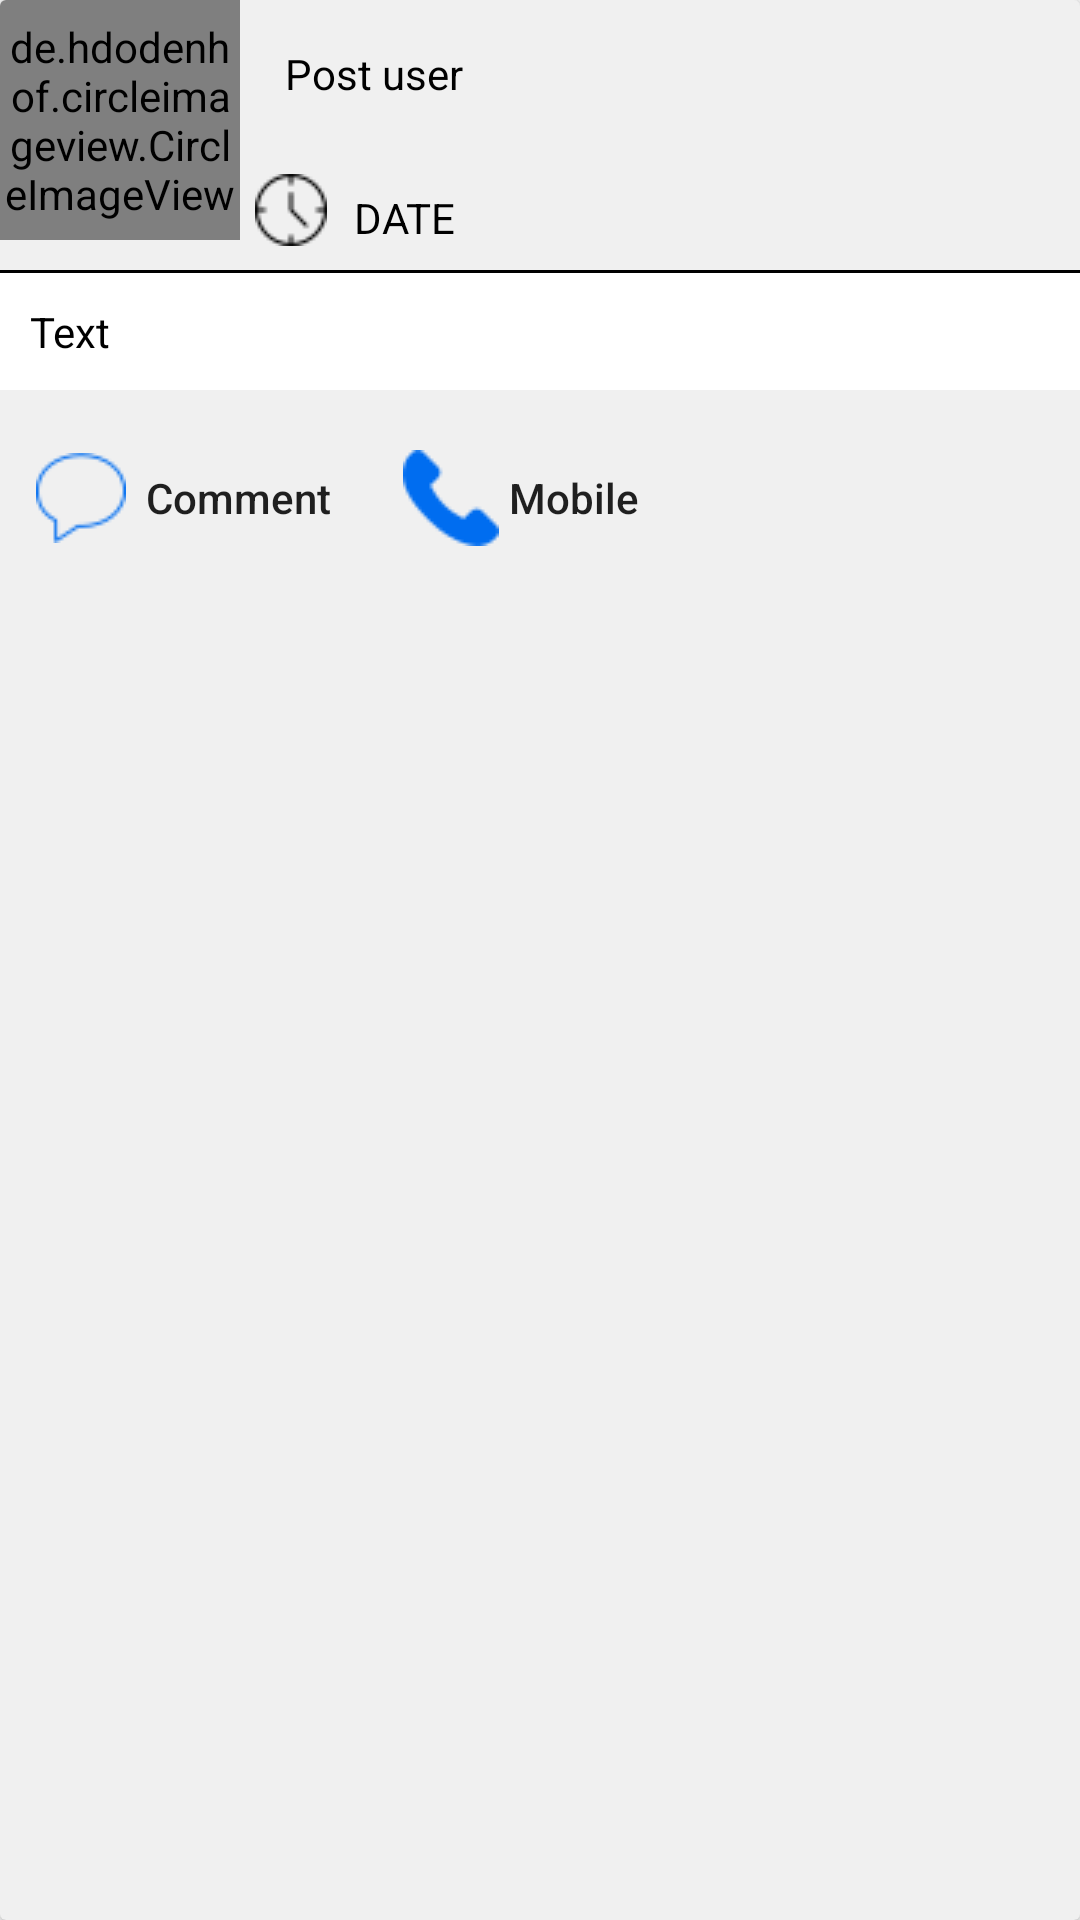

Locate icon controls on the screen. Image size 1080px x 1920px, boxes as (x1,y1,x2,y2).
clock: (255,174,327,246)
